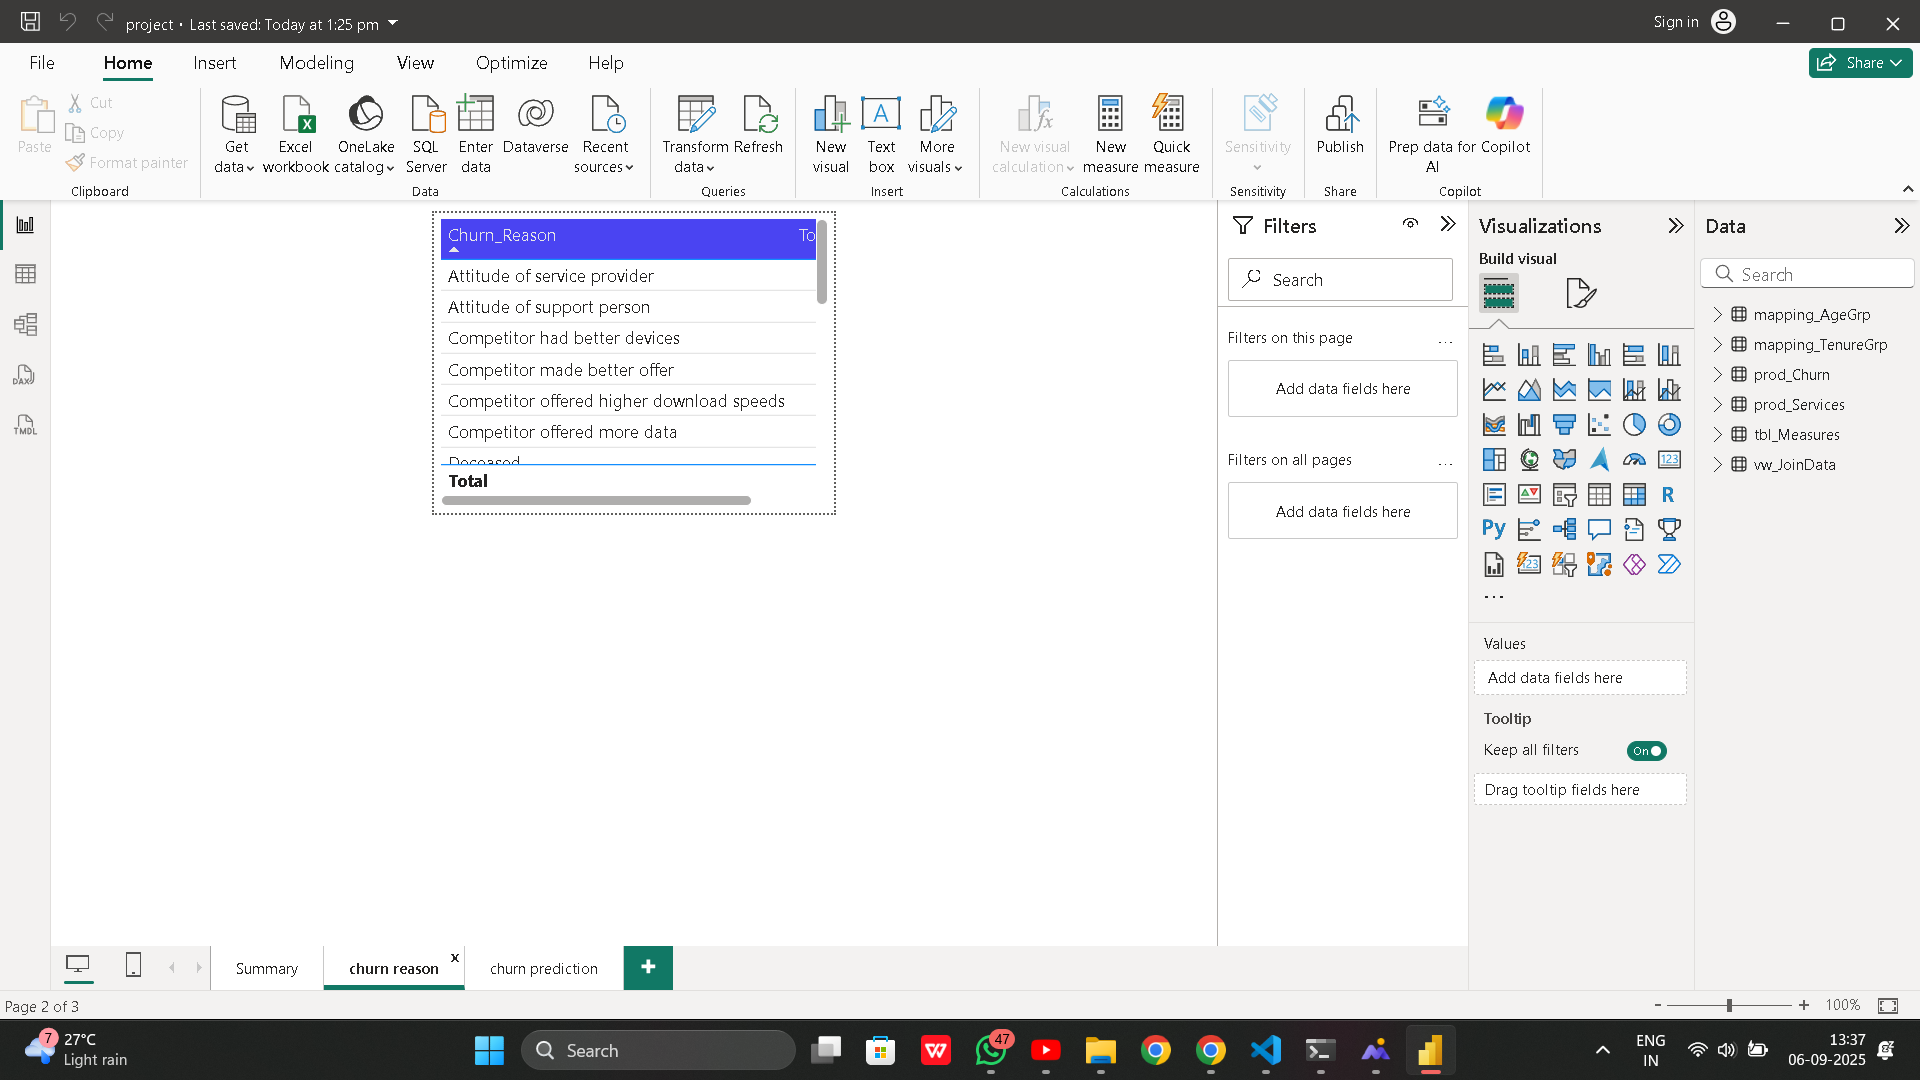

This screenshot's page, from the dashboard's own definition file:
{"tool":"powerbi","page":{"name":"churn reason","canvas":[320,240],"ordinal":1},"visuals":[{"type":"tableEx","fields":{"Values":["prod_Services.Churn_Reason","tbl_Measures.Total Churn"]},"box":[0,0,320,240],"z":0}]}

Visuals, with their boxes on the page's 320x240 design canvas (x1, y1, x2, y2). These are canvas units, not pixel positions in the 1920x1080 screenshot, which may show the page scaled, cropped or inside an application window:
tableEx - prod_Services.Churn_Reason x tbl_Measures.Total Churn: rect(0, 0, 320, 240)
